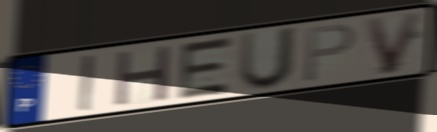E: (174, 34, 237, 102)
H: (113, 42, 176, 109)
I: (76, 52, 95, 114)
P: (301, 21, 358, 85)
U: (235, 24, 301, 93)
V: (362, 9, 425, 77)
